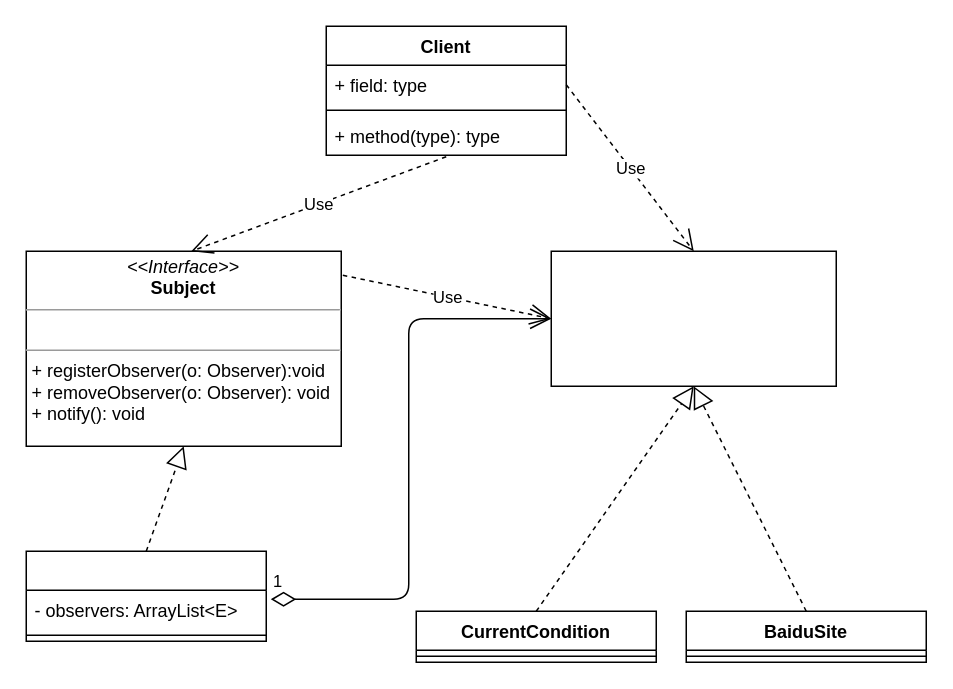
This 953x689 diagram has some shape labels left out. The box of each missing label's shape, as (x1, y1, x2, y2) in pixels:
<<Interface>> Observer + update(): void: (550, 250, 836, 386)
WeatherData: (25, 550, 266, 641)
